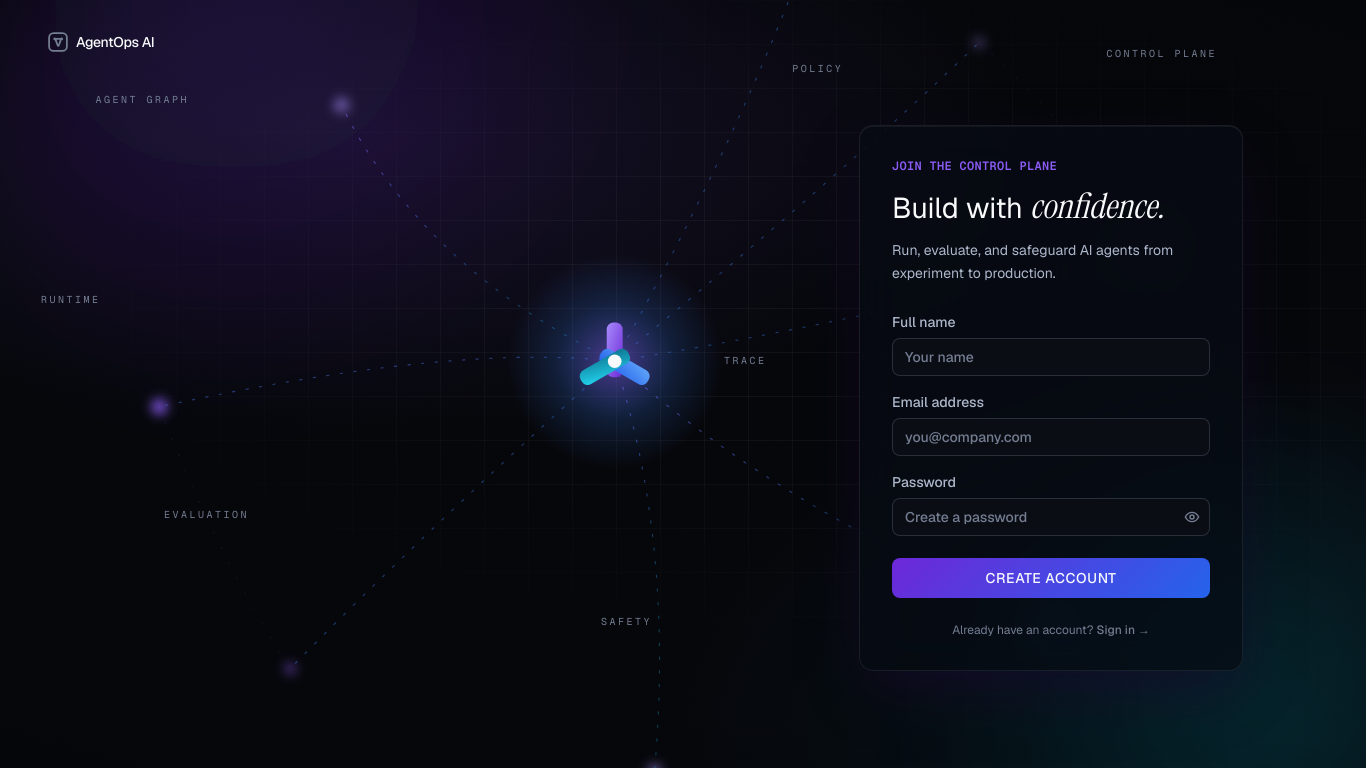
Scenario: RegisterPage — BUG-001 › does not show the raw generic 'Unprocessable Entity' message when a real detail exists
This screenshot has width=1366, height=768.
In the field labelled "Email address": (1051, 438) [892, 418, 1210, 456], type "new-user@example.com"
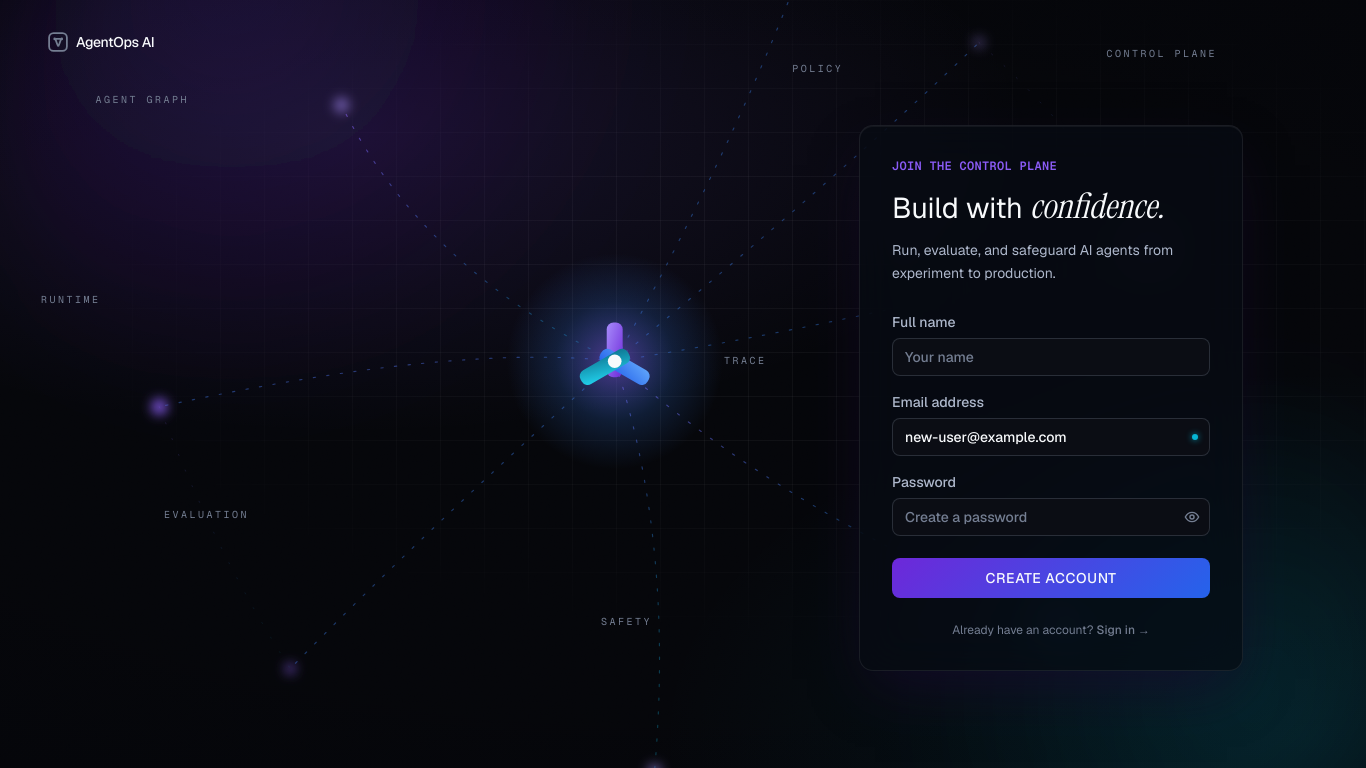
In the password field labelled "Password": (1051, 518) [892, 498, 1210, 536], type "Password123!"
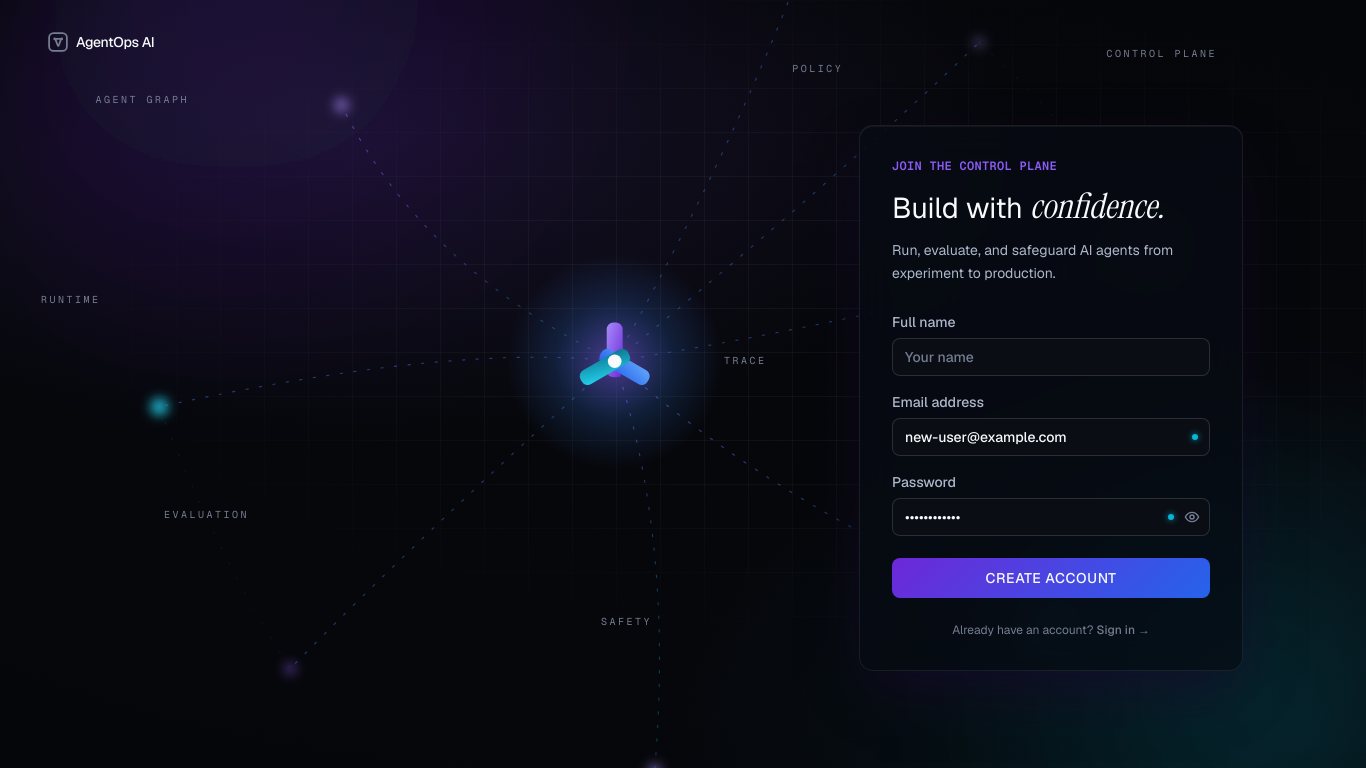
Click the button "CREATE ACCOUNT": (1051, 578) [892, 558, 1210, 598]
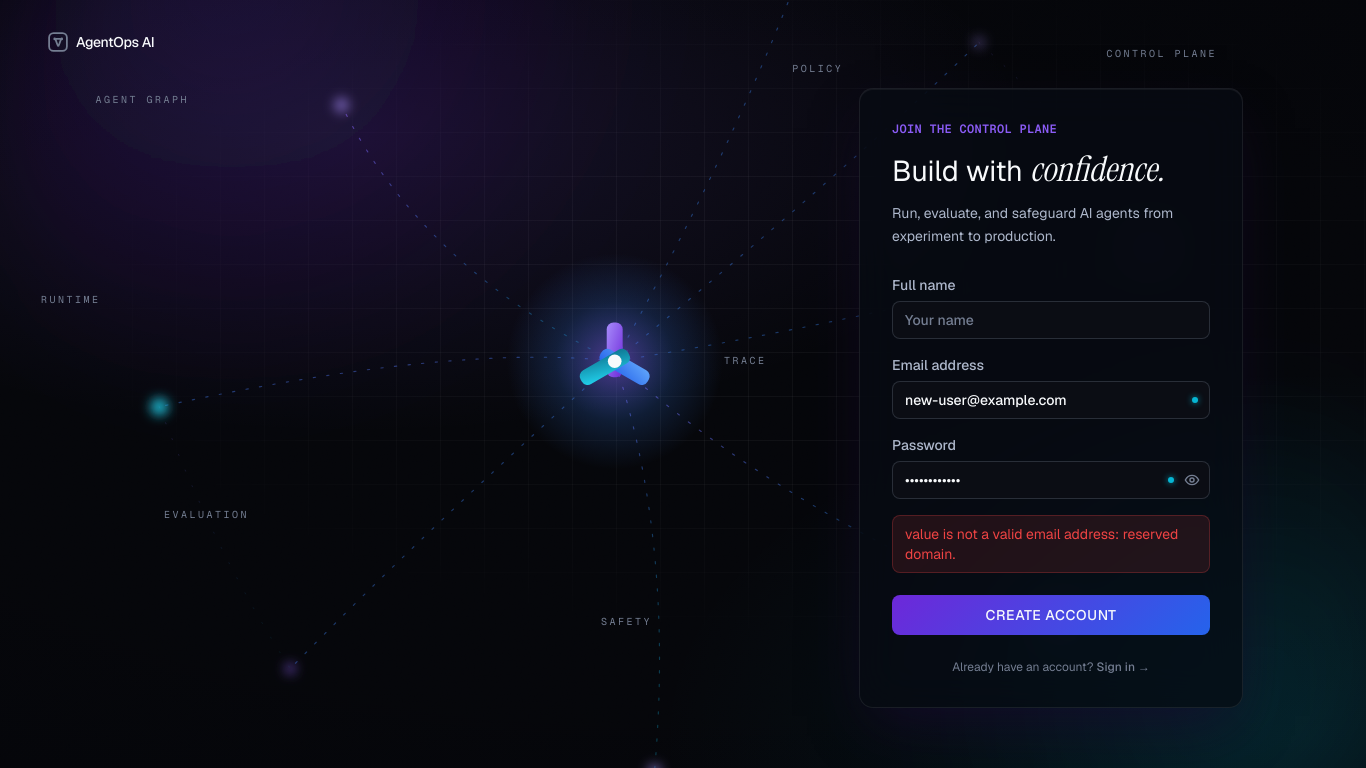
Expected: the text "value is not a valid email address: reserved domain." is shown, [892, 516, 1210, 574]
